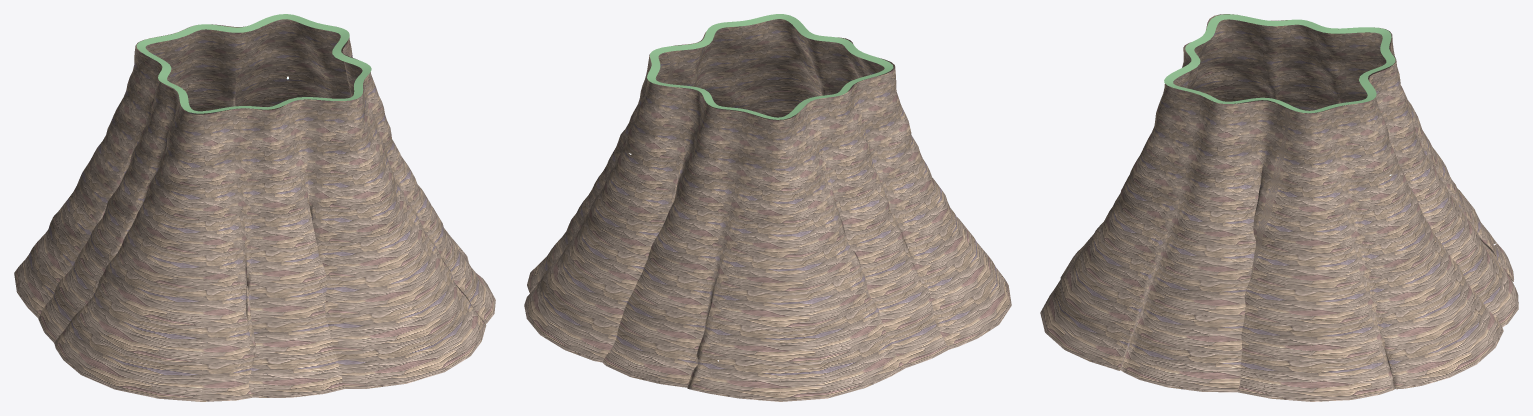
The model's file is CliffWall_stack_00.glb.
3 views of the same model, side by side, from view 1: azimuth 30°, elevation 25°; view 2: azimuth 150°, elevation 25°; view 3: azimuth 270°, elevation 25° (orthographic). The views are drawn at different scales.
Visible parts, largest first — view 1: CliffWall_stack_00-rock0, CliffWall_stack_00-lip0; view 2: CliffWall_stack_00-rock0, CliffWall_stack_00-lip0; view 3: CliffWall_stack_00-rock0, CliffWall_stack_00-lip0.
Part boxes in pixels (left/top/right/bottom): CliffWall_stack_00-rock0: left=14, top=19, right=495, bottom=401; CliffWall_stack_00-lip0: left=136, top=14, right=371, bottom=113; CliffWall_stack_00-rock0: left=524, top=19, right=1011, bottom=401; CliffWall_stack_00-lip0: left=647, top=14, right=893, bottom=119; CliffWall_stack_00-rock0: left=1040, top=14, right=1518, bottom=401; CliffWall_stack_00-lip0: left=1164, top=14, right=1395, bottom=113.
Bounding box in the file's own units: 468 × 253 × 464.
4 materials, 1 textured.
